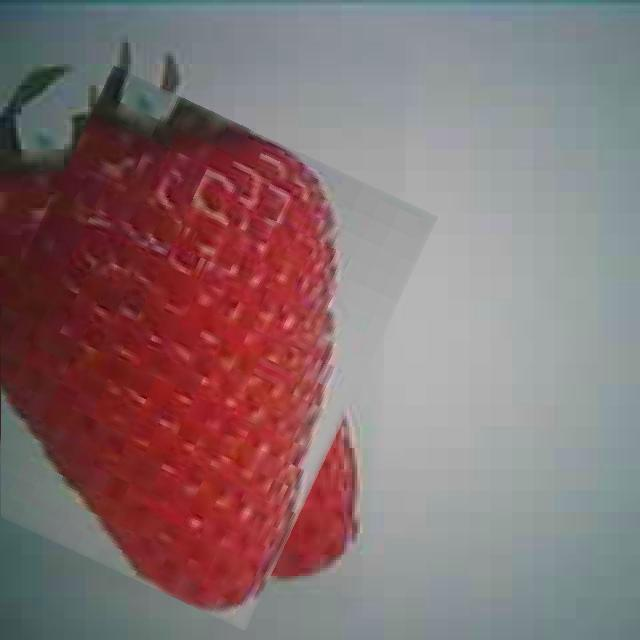strawberry: (0, 92, 398, 603)
